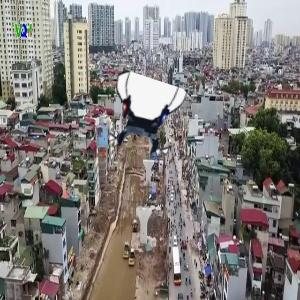drone: (106, 79, 185, 158)
